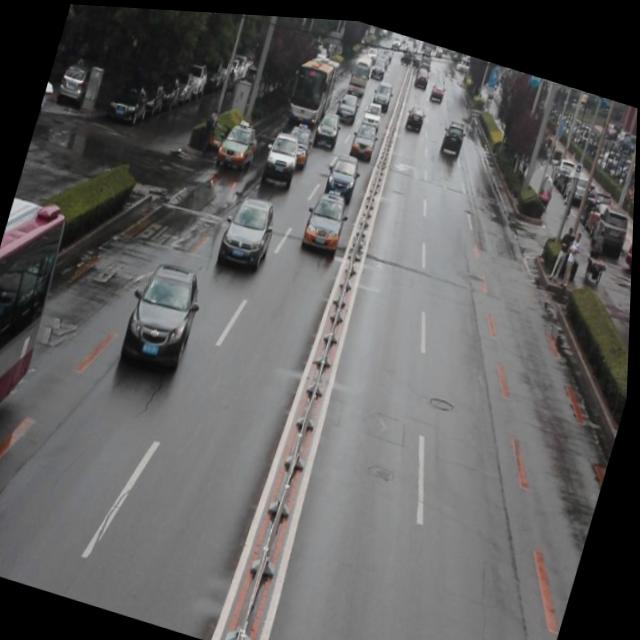car: (118, 252, 210, 375), (218, 188, 282, 272), (300, 182, 353, 256), (259, 122, 305, 187), (216, 109, 264, 169), (323, 146, 363, 199), (281, 113, 318, 168), (312, 102, 344, 146), (348, 115, 380, 158)
van: (0, 190, 76, 478), (284, 43, 342, 128)
